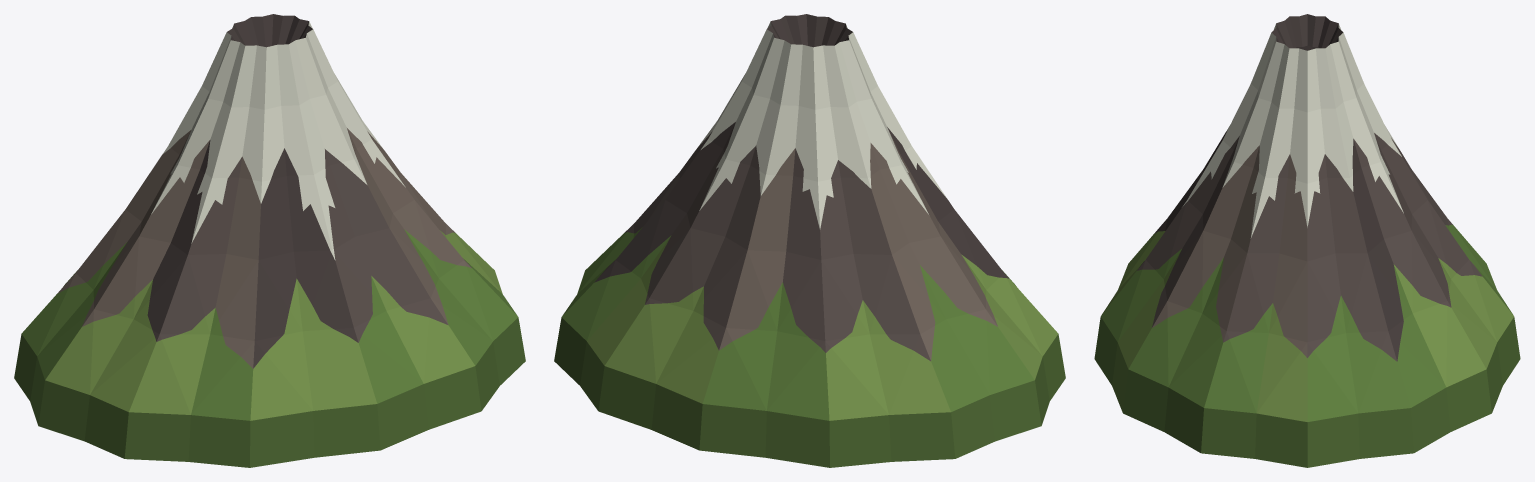
The model's file is volcano_single.glb.
3 renders of one model, left to right at view 1: azimuth 30°, elevation 25°; view 2: azimuth 150°, elevation 25°; view 3: azimuth 270°, elevation 25°, orthographic. The views are drawn at different scales.
Visible parts, largest first — view 1: volcano_single; view 2: volcano_single; view 3: volcano_single.
Part boxes in pixels (x1,y1,x2,y2): volcano_single: (14, 14, 525, 467); volcano_single: (554, 14, 1065, 467); volcano_single: (1094, 14, 1520, 467).
Size of the model in its own units: 1.65 by 1.15 by 1.36.
